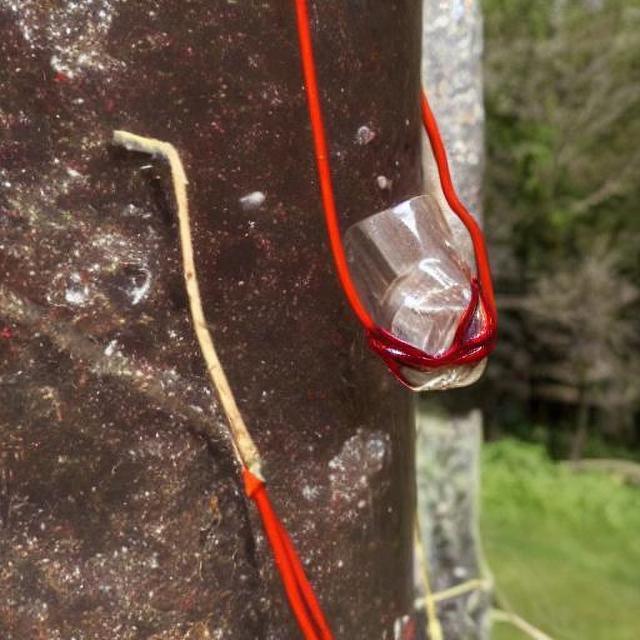floating object: (0, 7, 488, 630), (315, 18, 490, 396)
